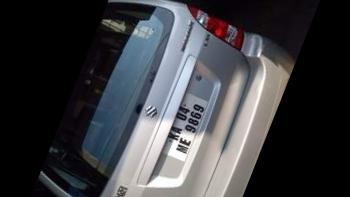plate: (143, 74, 224, 188)
